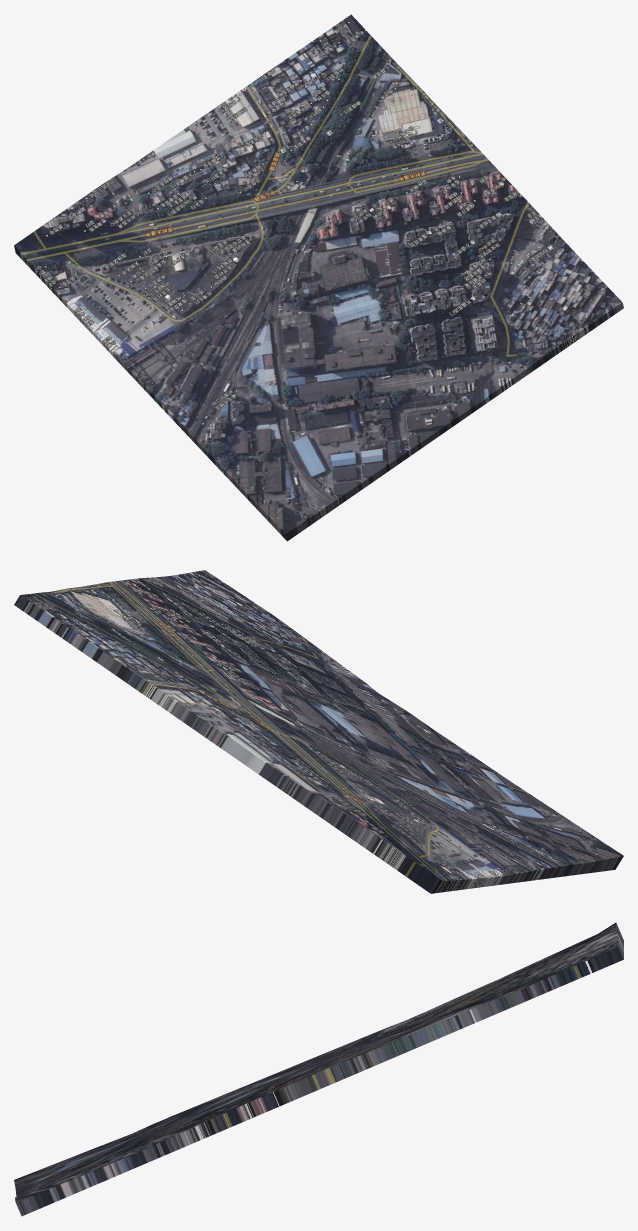
3 renders of one model, top to bottom at view 1: azimuth 30°, elevation 25°; view 2: azimuth 150°, elevation 25°; view 3: azimuth 270°, elevation 25°, orthographic. The views are drawn at different scales.
Parts seen in each view (by area): view 1: 0_13_3; view 2: 0_13_3; view 3: 0_13_3.
Part boxes in pixels (box(x1,y1,x2,y2)): 0_13_3: box(14, 14, 623, 541); 0_13_3: box(14, 570, 623, 893); 0_13_3: box(14, 922, 623, 1216).
Bounding box in the file's own units: 599 × 438 × 549.
1 material, 1 textured.
